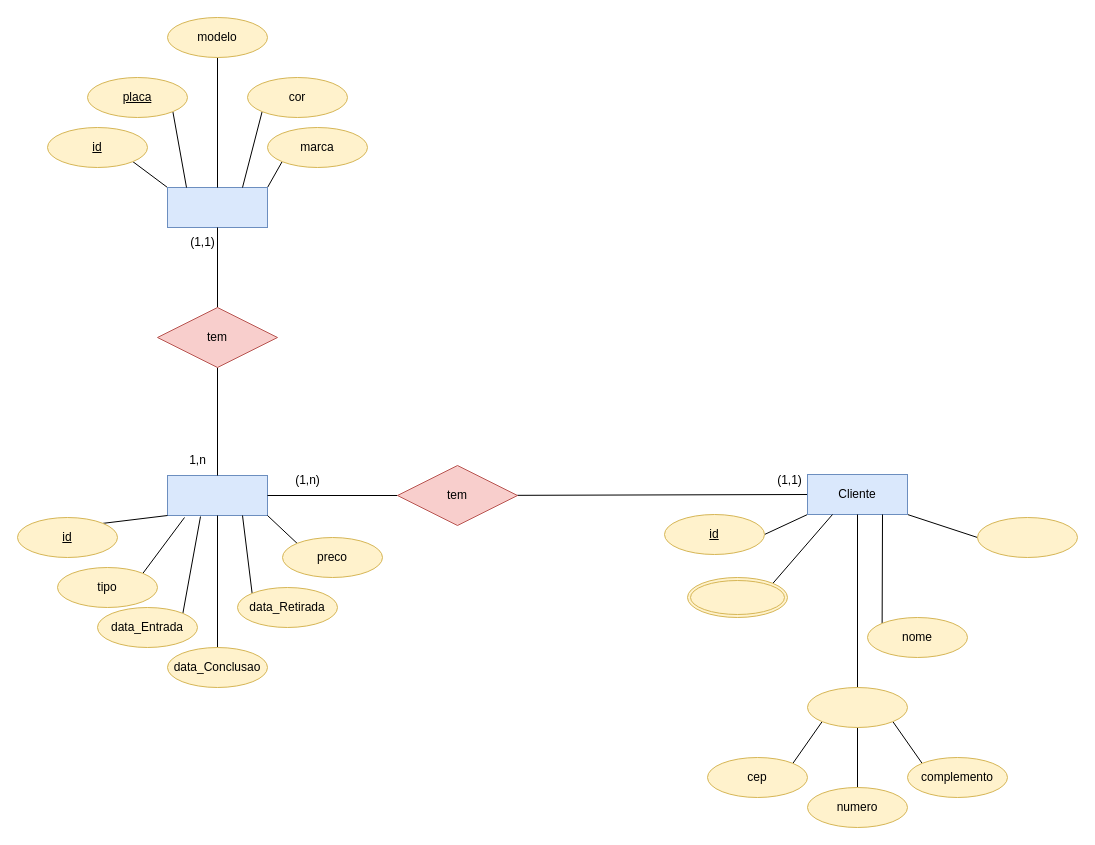
Image size: 1095x845. Some labels were removed from this diagram. The shapes that lost their labels are listed below. From the top down, each one's centre as x and y in pixels, then its label:
At (x=217, y=207): "Veiculo".
At (x=217, y=495): "Servicos".
At (x=1027, y=537): "telefone".
At (x=737, y=597): "logradouro".
At (x=857, y=707): "cpf".
